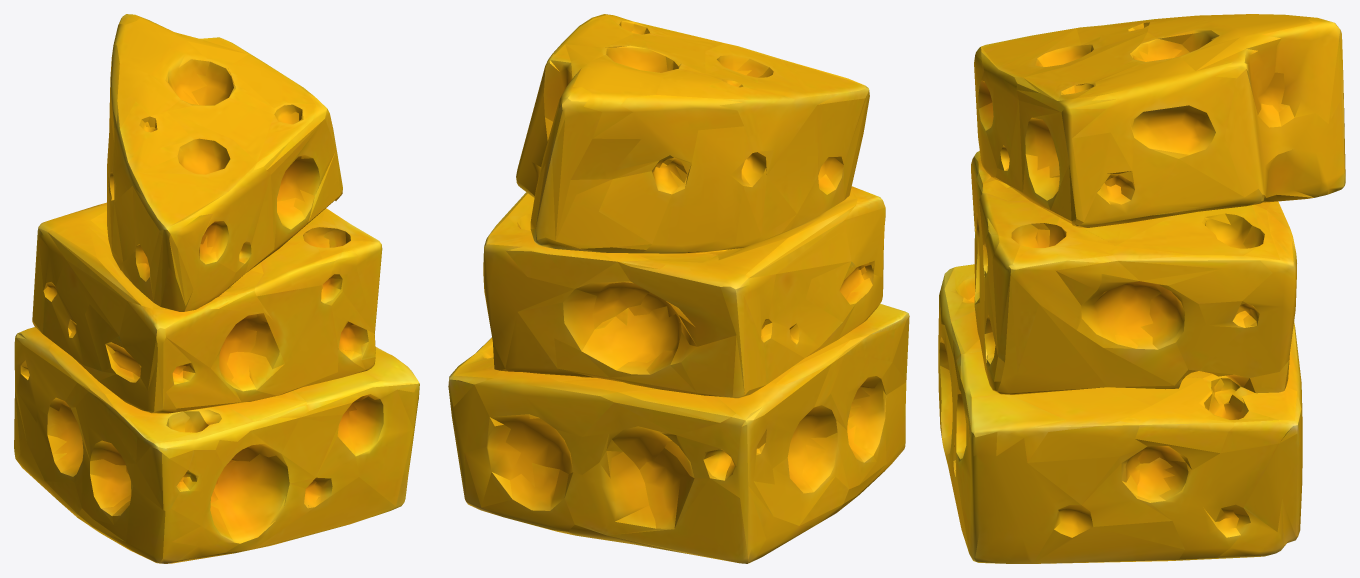
The model's file is prop_cheese.glb.
The picture shows the model from 3 angles, left to right: view 1: azimuth 30°, elevation 25°; view 2: azimuth 150°, elevation 25°; view 3: azimuth 270°, elevation 25°; orthographic projection. The views are drawn at different scales.
Size of the model in its own units: 1.39 by 1.9 by 1.48.
1 material, 1 textured.
